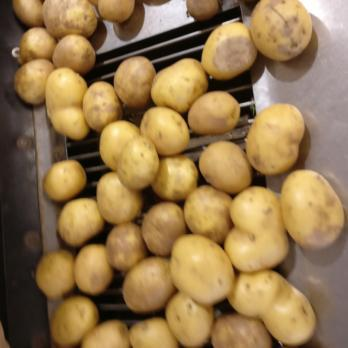Solid potato: (33, 159, 348, 348), (9, 0, 318, 156)
